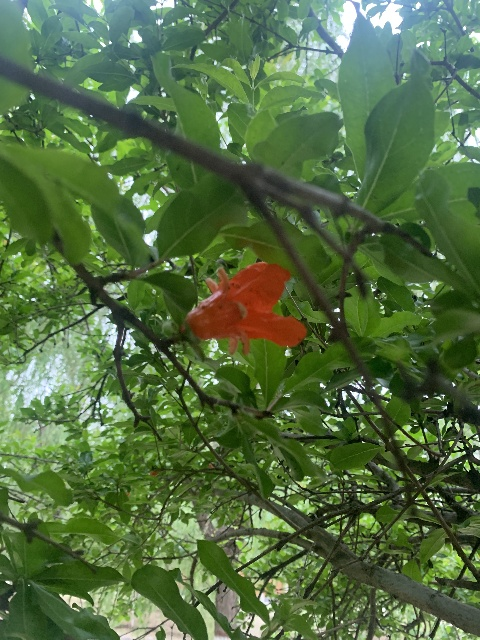flower: (184, 261, 306, 356)
